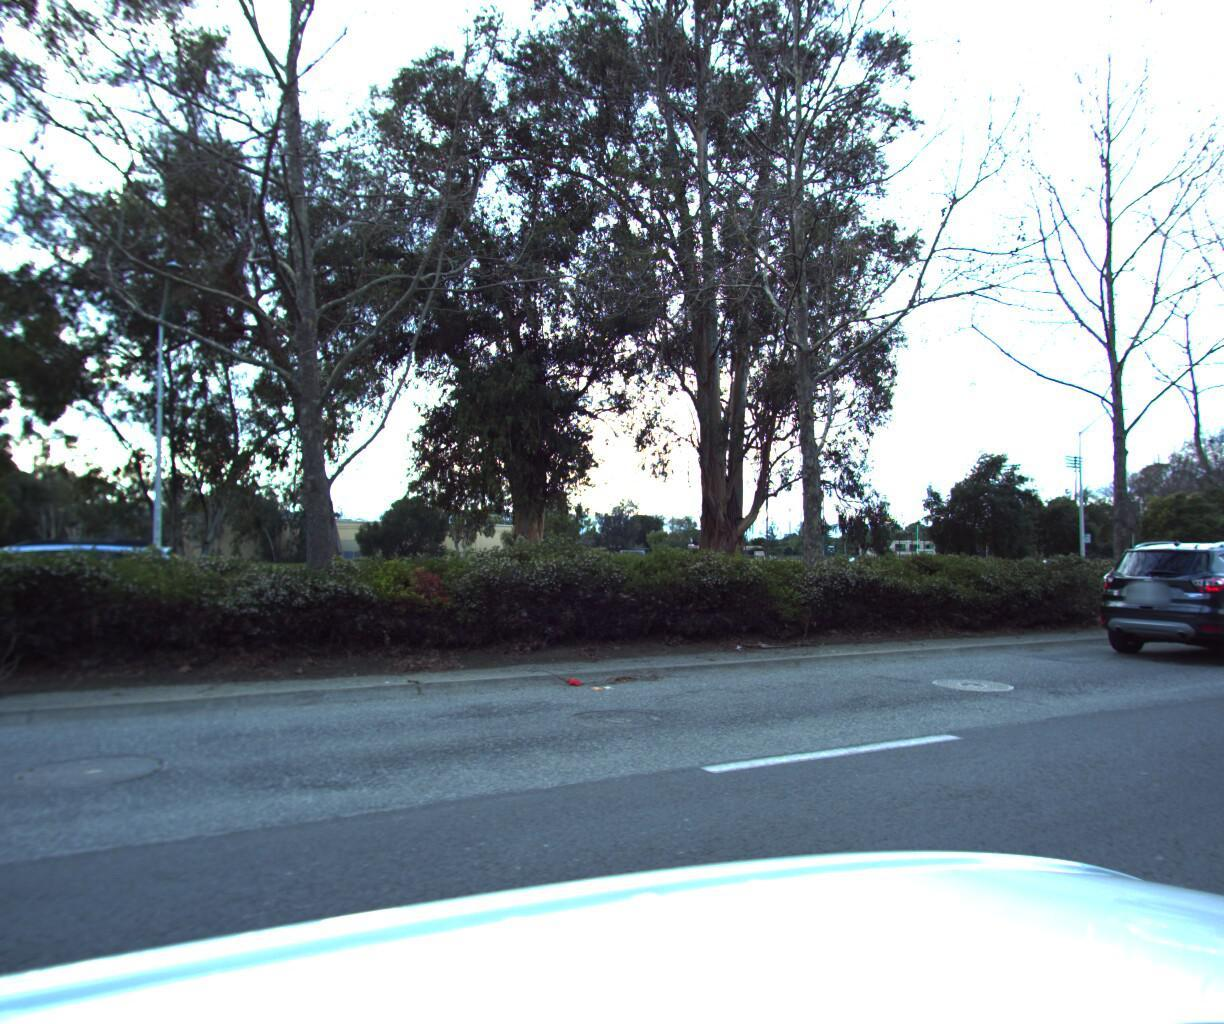car: (0, 534, 276, 672), (1078, 537, 1224, 676)
